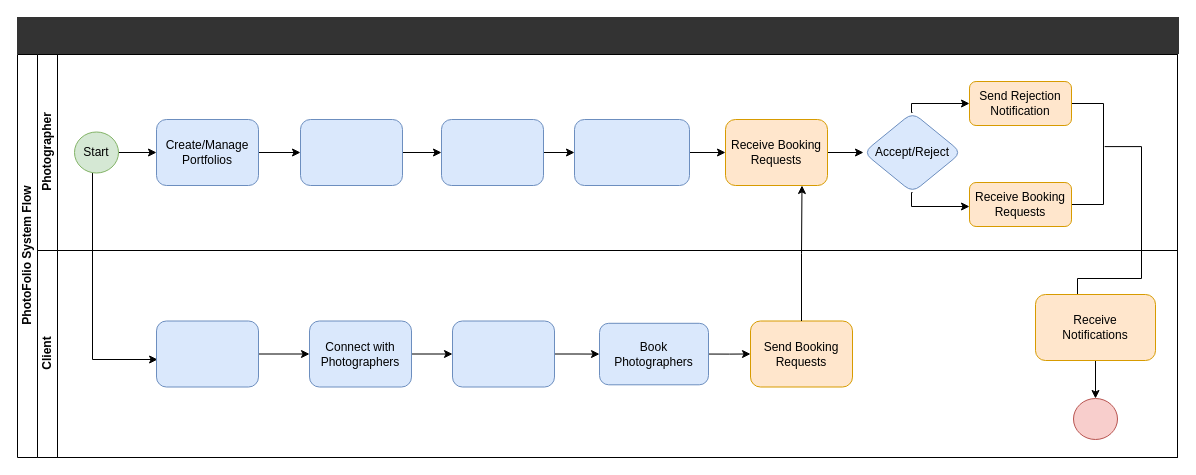
The diagram is 1196 pixels wide and 475 high, and some of its shapes have lost their labels. Here are the shapes that lost their labels. From the top down, the centre of each, then its label:
At point 597,35: "PhotoFolio".
At point 351,152: "Participate in Events".
At point 492,152: "Write Blogs".
At point 632,152: "Post/Participate in Forums".
At point 207,353: "Explore Photographers".
At point 503,353: "Compare Photographers".
At point 1095,419: "End".
